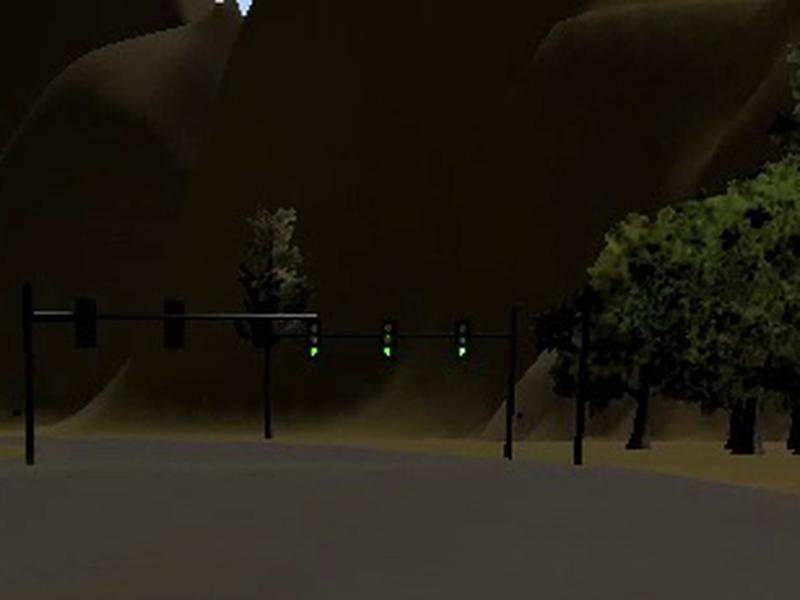Green: (306, 321, 322, 359), (455, 320, 471, 358), (381, 321, 396, 357)
